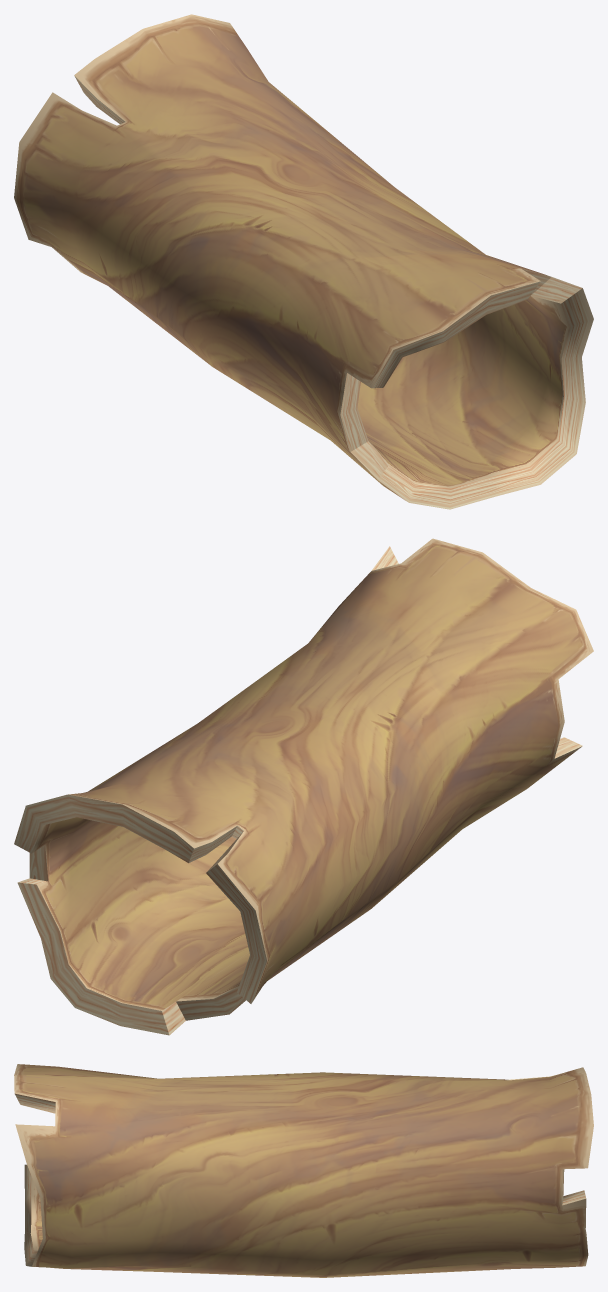
The model's file is SM_ENV_treetrunk_ancient_02.fbx.
3 renders of one model, top to bottom at view 1: azimuth 30°, elevation 25°; view 2: azimuth 150°, elevation 25°; view 3: azimuth 270°, elevation 25°, orthographic. The views are drawn at different scales.
Parts seen in each view (by area): view 1: SM_ENV_treetrunk_ancient_02_LOD0; view 2: SM_ENV_treetrunk_ancient_02_LOD0; view 3: SM_ENV_treetrunk_ancient_02_LOD0.
Boxes of the visible parts, x1=… form: SM_ENV_treetrunk_ancient_02_LOD0: x1=14, y1=14, x2=593, y2=509; SM_ENV_treetrunk_ancient_02_LOD0: x1=14, y1=538, x2=593, y2=1035; SM_ENV_treetrunk_ancient_02_LOD0: x1=14, y1=1064, x2=593, y2=1277.
Size of what is drawn, in the model's own units: 90.24 by 77.8 by 217.
